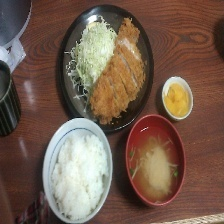rice: (52, 134, 111, 223)
